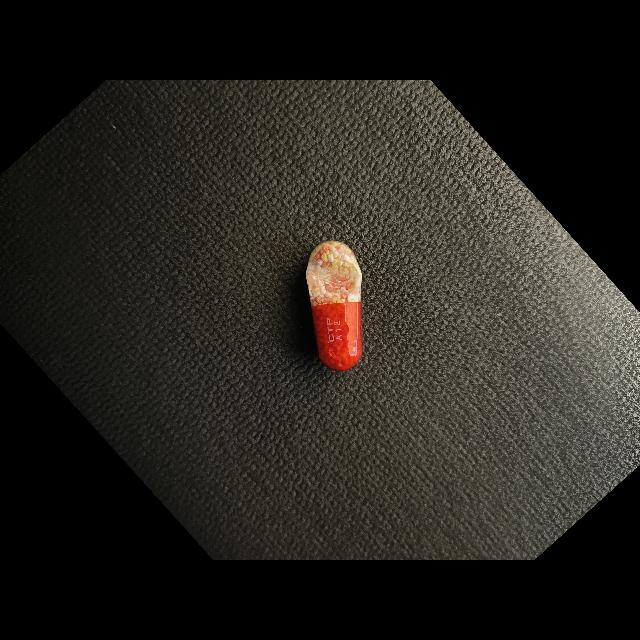Defective Capsule: (306, 241, 363, 371)
